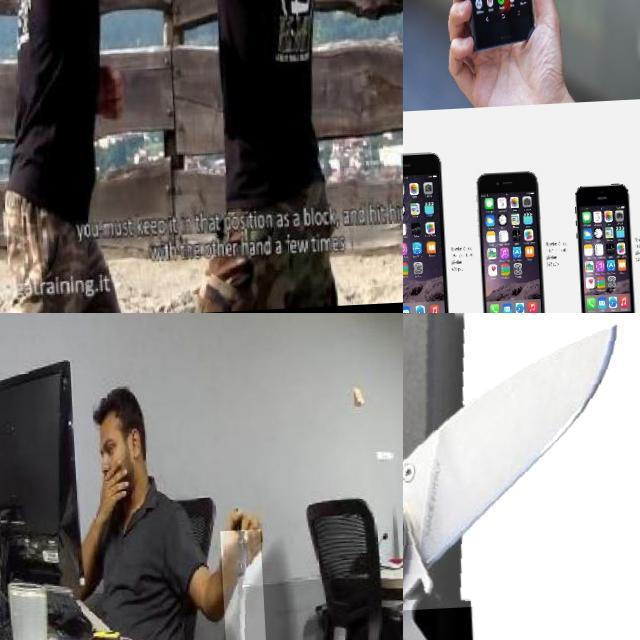-: (403, 313, 630, 615), (94, 0, 178, 59), (215, 533, 261, 640)
